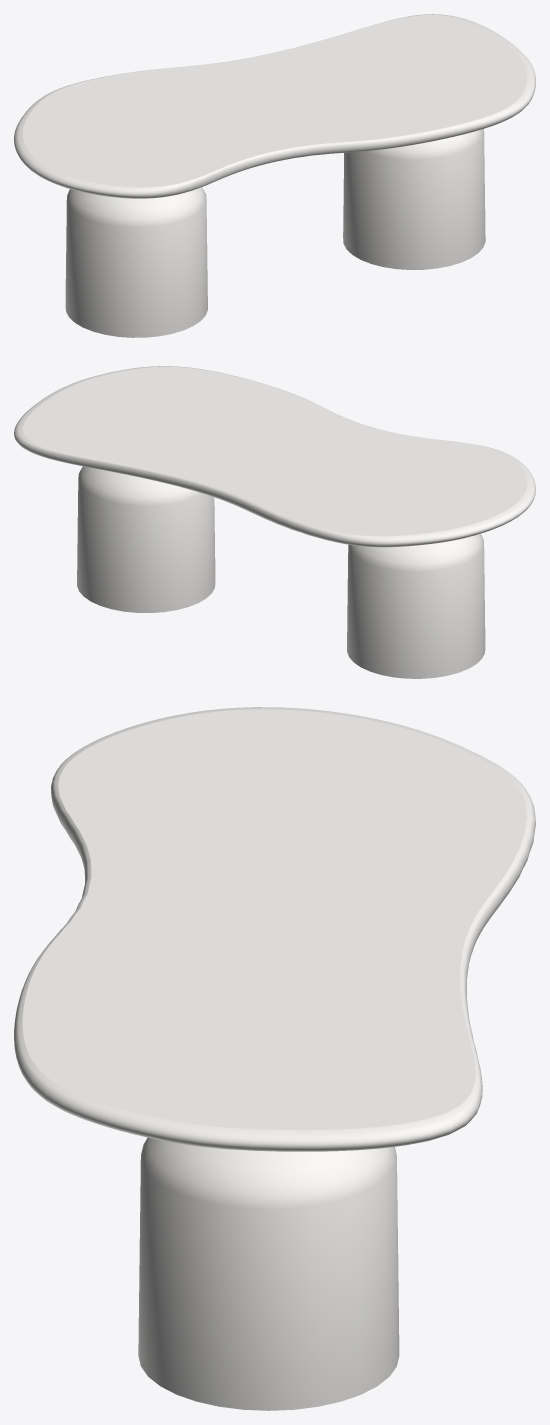
Rendered from purewhite_wave_round_tornado.glb.
3 renders of one model, top to bottom at view 1: azimuth 30°, elevation 25°; view 2: azimuth 150°, elevation 25°; view 3: azimuth 270°, elevation 25°, orthographic. The views are drawn at different scales.
Parts seen in each view (by area): view 1: round_wave, tornado; view 2: round_wave, tornado; view 3: round_wave, tornado.
Part boxes in pixels (x1,y1,x2,y2): round_wave: (14, 14, 535, 198); tornado: (65, 129, 485, 337); round_wave: (14, 366, 535, 547); tornado: (77, 466, 485, 678); round_wave: (14, 707, 535, 1151); tornado: (138, 1137, 399, 1410).
Size of the model in its own units: 7.5 by 2.5 by 3.8.
1 material, 1 textured.
